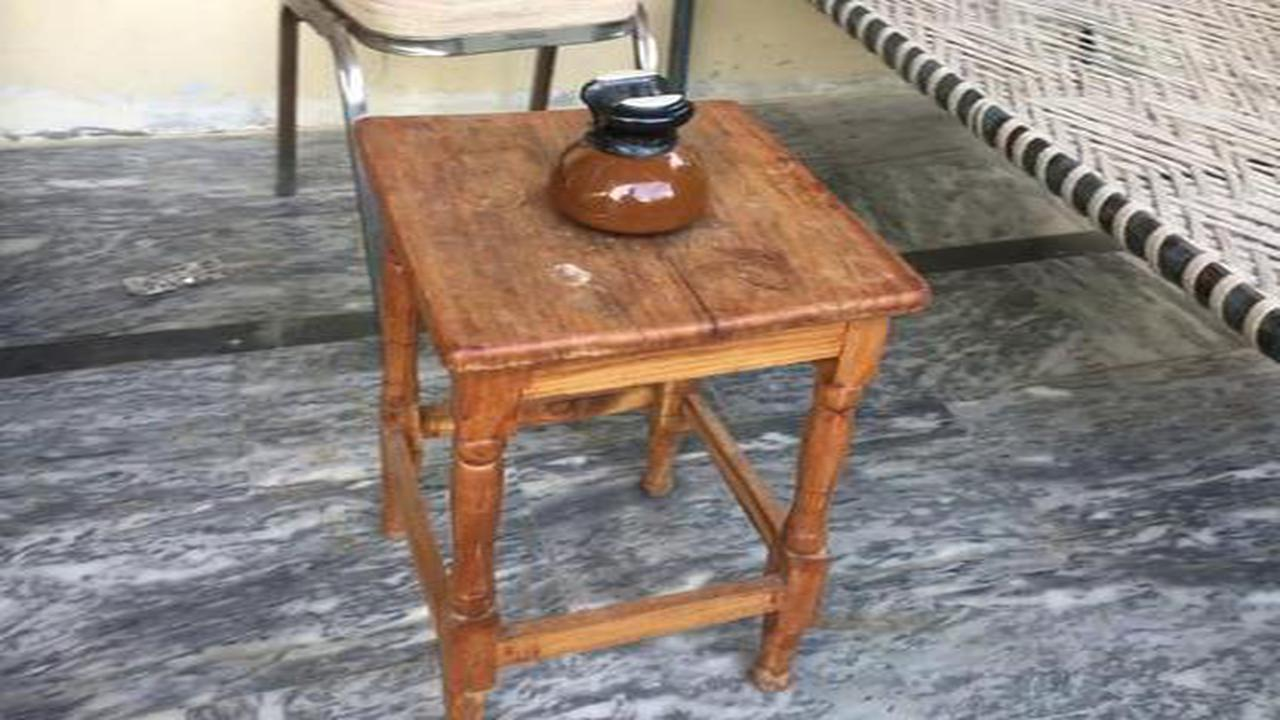insulator_pin: (536, 65, 724, 253)
